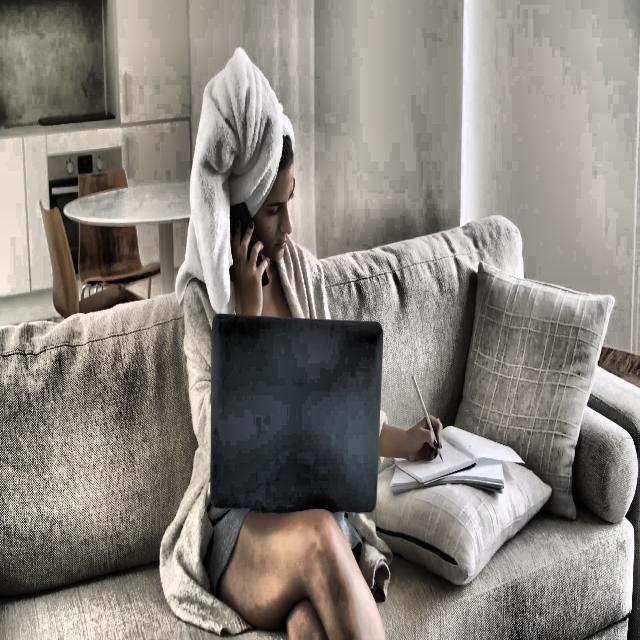Phone: (228, 201, 270, 290)
